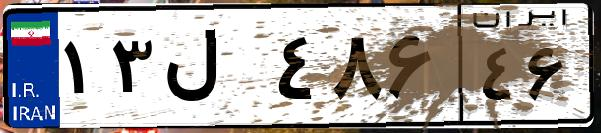1: (57, 26, 110, 100)
3: (110, 28, 158, 98)
4: (270, 28, 330, 110), (475, 38, 525, 113)
6: (385, 28, 445, 110), (525, 38, 570, 115)
8: (330, 28, 385, 110)
ل: (158, 20, 270, 120)
